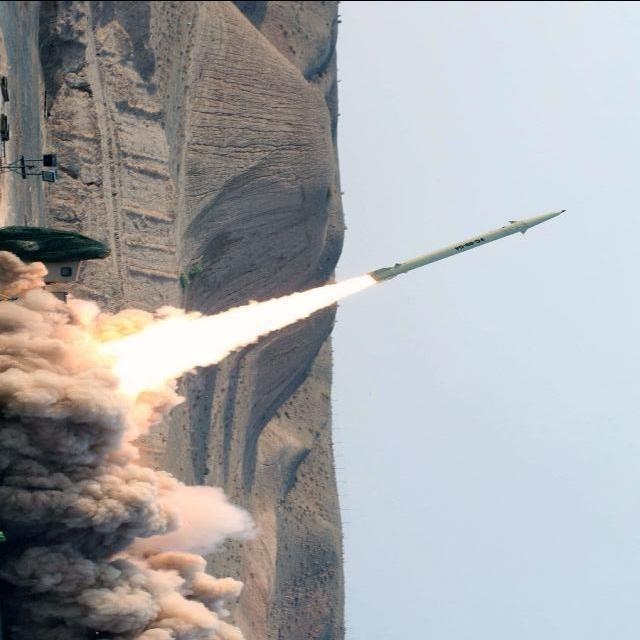missile: (372, 208, 568, 282)
